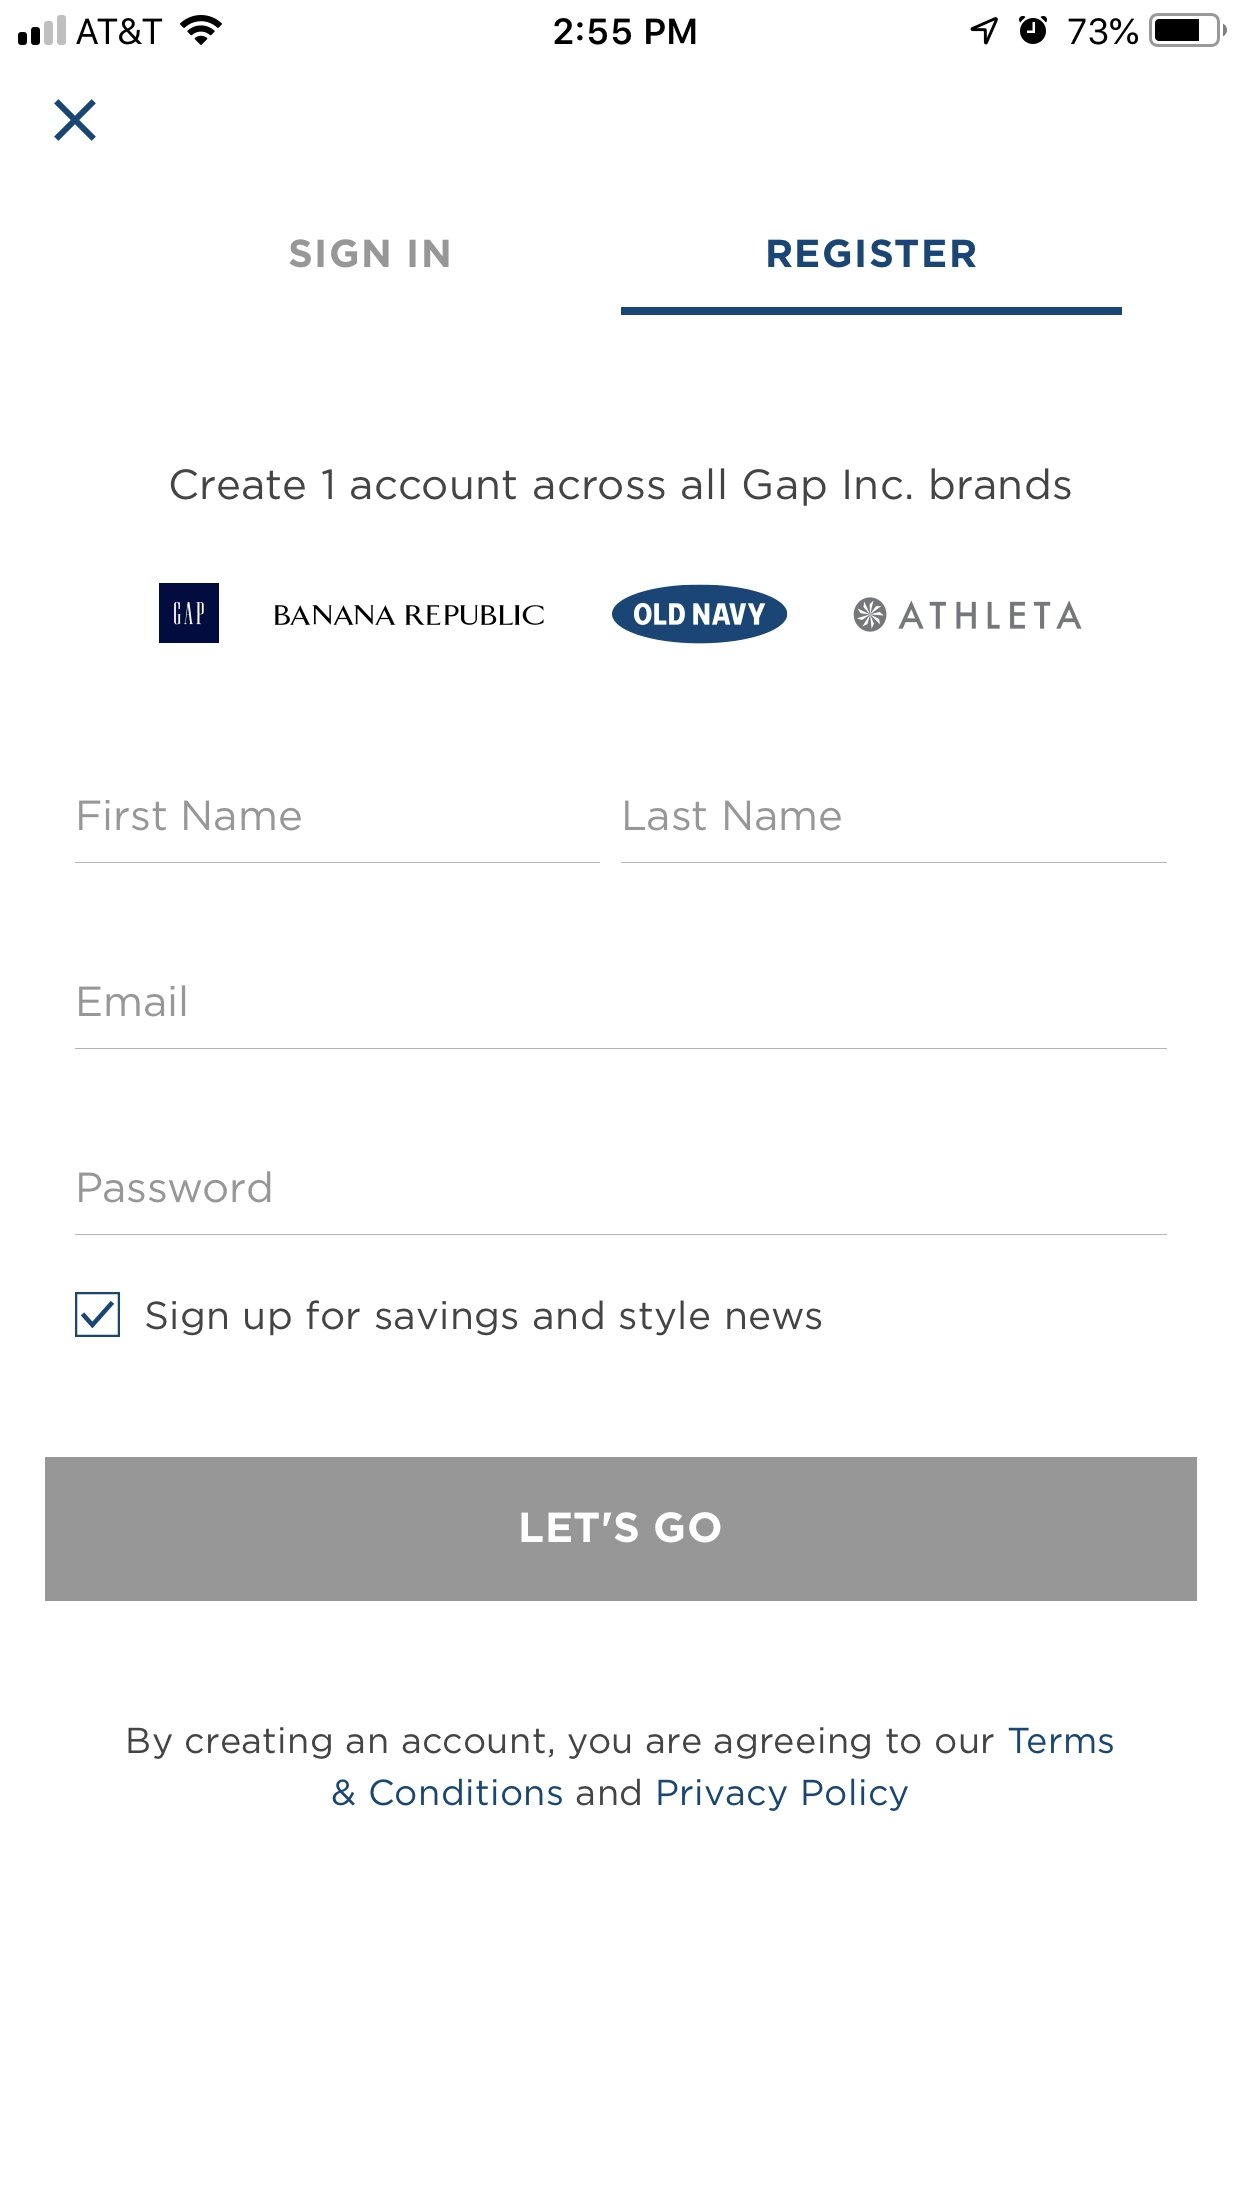CheckedTextView: (74, 1292, 822, 1338)
EditText: (74, 984, 1168, 1049), (74, 1171, 1168, 1236), (622, 801, 1168, 864), (74, 799, 601, 864)
Icon: (55, 99, 97, 143)
Image: (613, 585, 789, 645), (159, 582, 220, 645), (852, 597, 887, 632)
Text: (127, 1727, 1115, 1812), (171, 469, 1072, 507), (146, 1300, 822, 1338), (77, 801, 302, 833), (623, 801, 842, 833), (767, 240, 977, 270), (77, 1171, 271, 1203), (274, 605, 546, 626), (898, 601, 1081, 629), (290, 238, 450, 268), (79, 986, 187, 1018)
TextButton: (45, 1457, 1198, 1601)
UpperTaskBar: (2, 2, 1242, 49)
